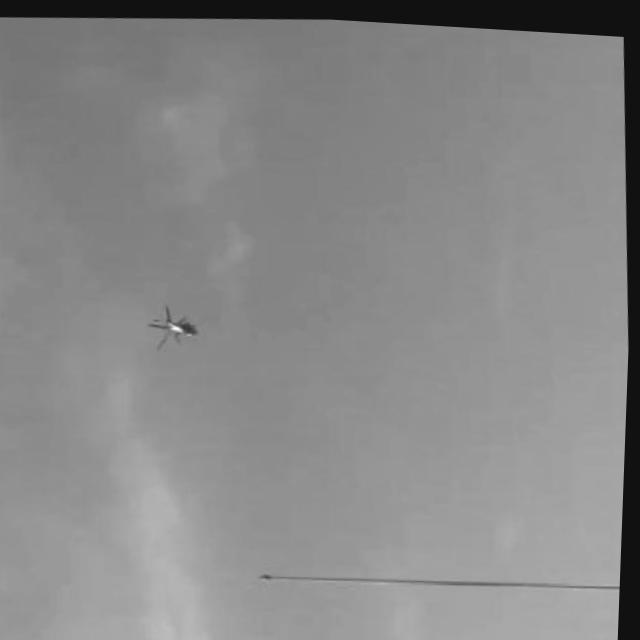helikopter: (150, 299, 204, 350)
